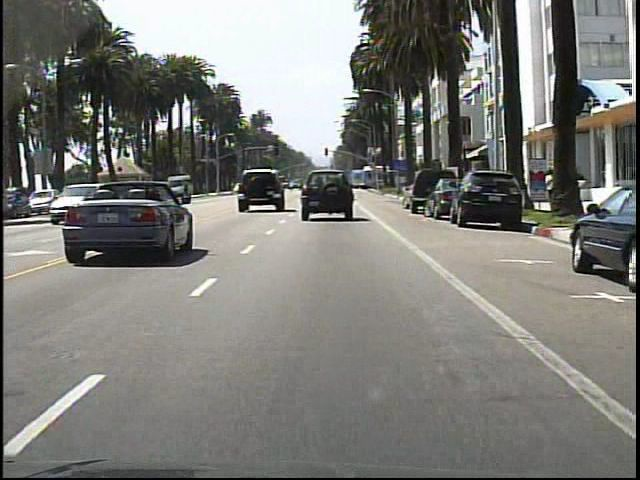person: (544, 167, 558, 210)
